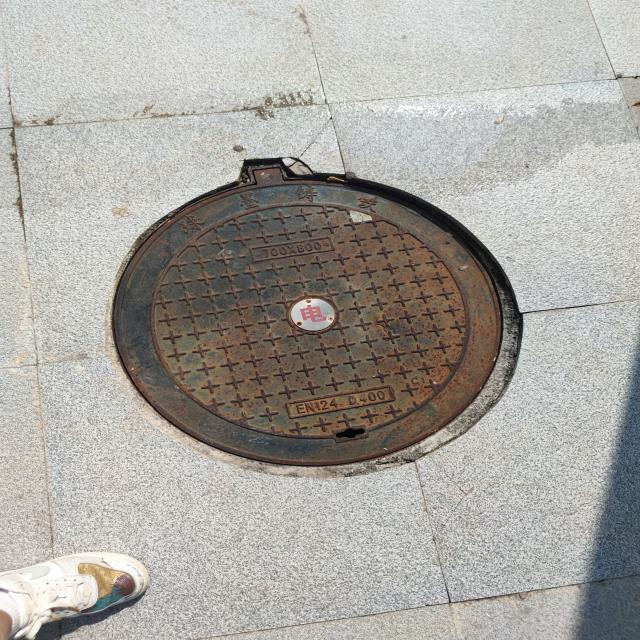Good: (104, 158, 536, 484)
